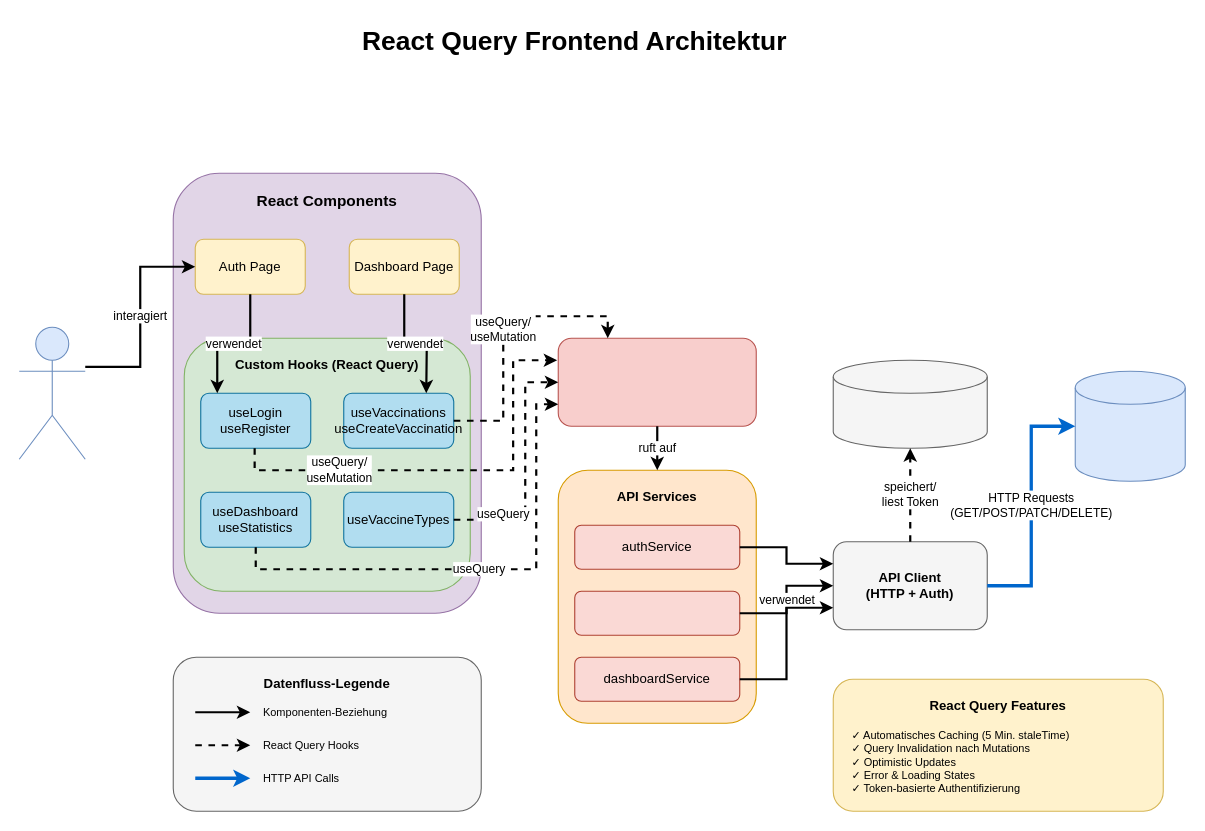
This 1205x831 diagram has some shape labels left out. Each missing label, with the box of its shape:
Backend API (Spring Boot): (1074, 370, 1185, 481)
Benutzer: (18, 326, 85, 459)
Query Client (Cache & State Management): (557, 337, 756, 426)
SessionStorage (Auth Token): (832, 359, 987, 448)
vaccinationsService: (574, 590, 740, 635)
